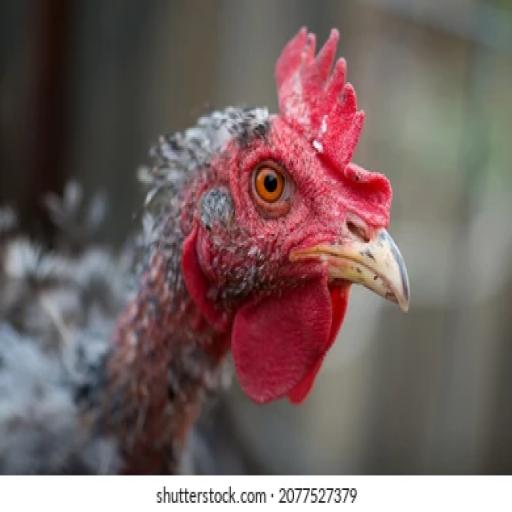disease: (277, 62, 344, 153)
